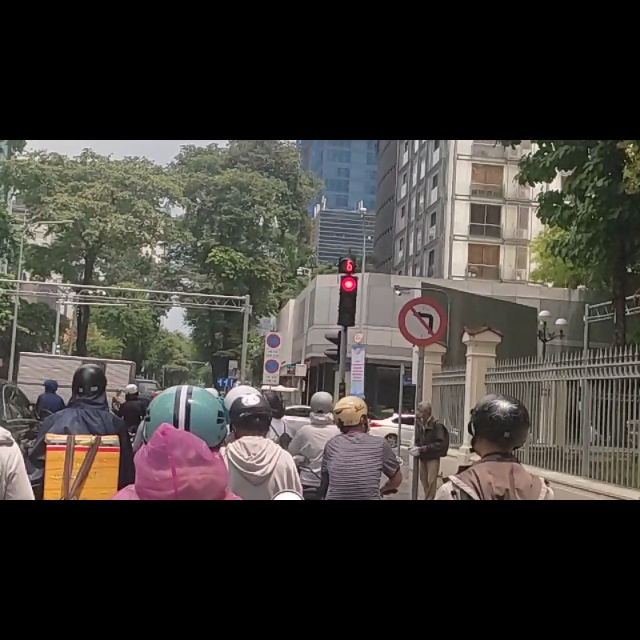bien_cam: (398, 273, 446, 367), (265, 343, 281, 371), (263, 389, 279, 417)
